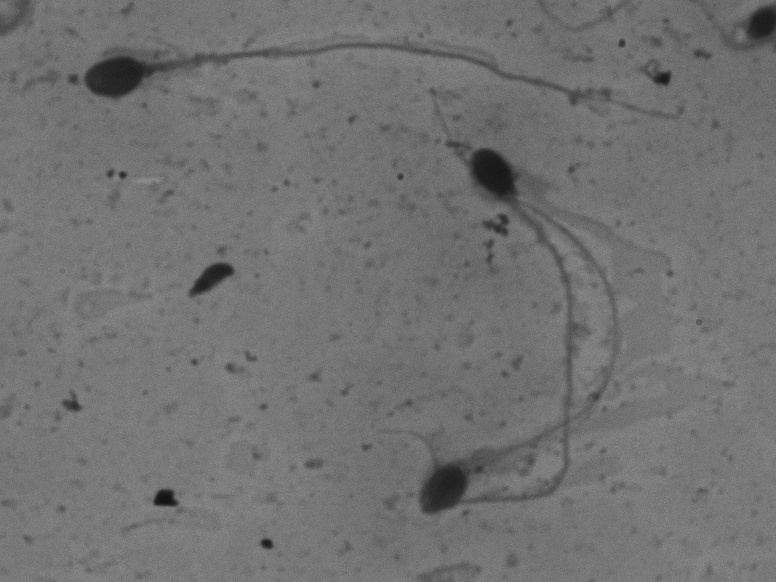Normal: (380, 187, 640, 544), (63, 24, 717, 145), (437, 138, 590, 522)
